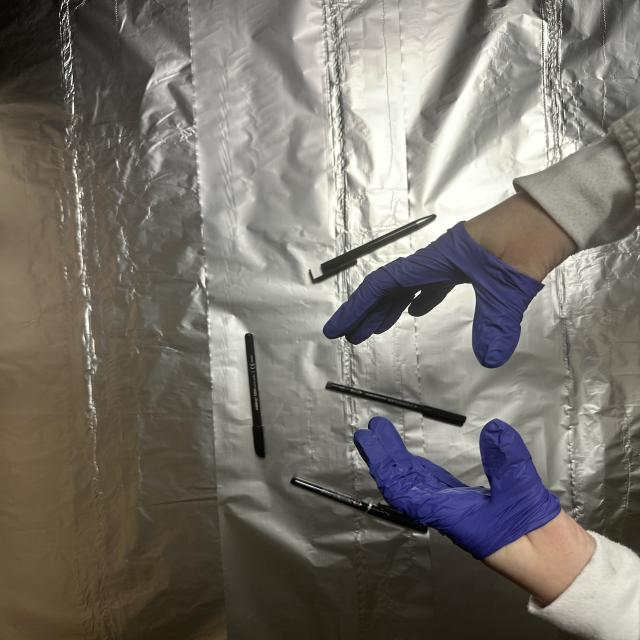glove_partial: (356, 412, 601, 609), (325, 186, 584, 370)
